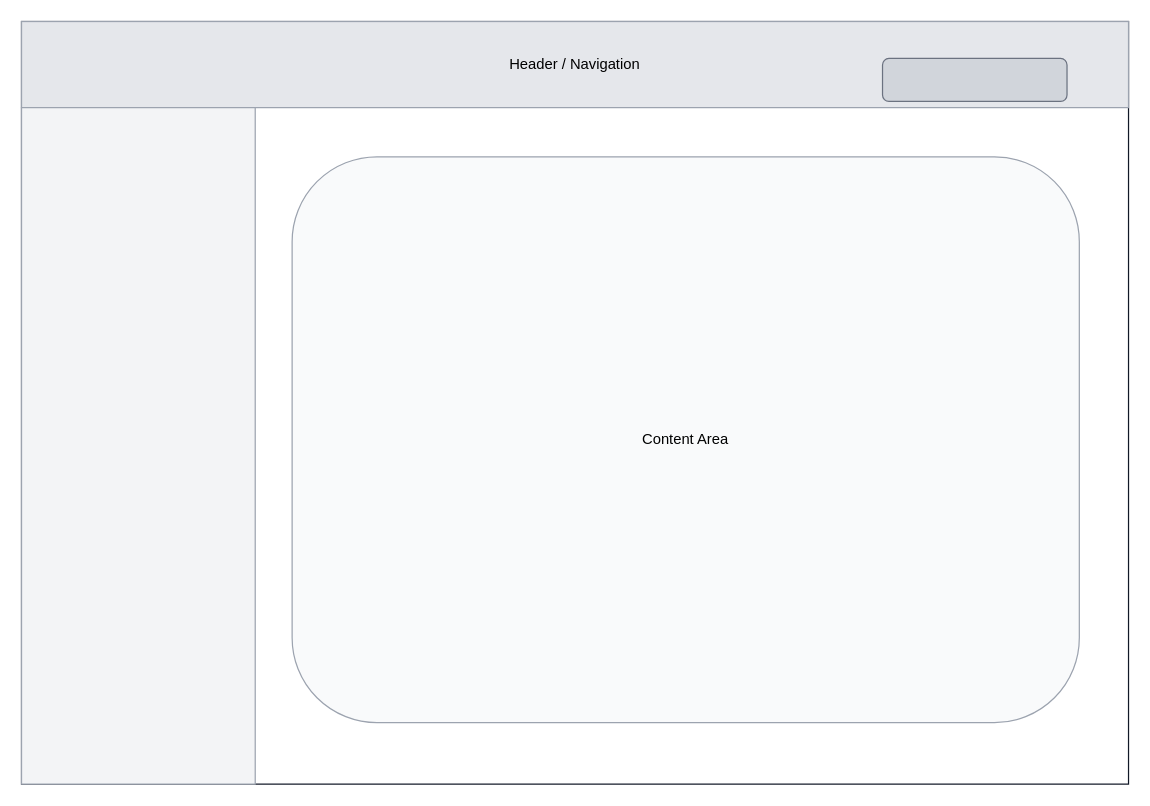
Some shapes in this 1150 by 806 pixel diagram are drawn without their labels. The centre of each missing label's shape, as x and y in pixels:
Primary Action: the point at 974,79
Sidebar: the point at 137,445
